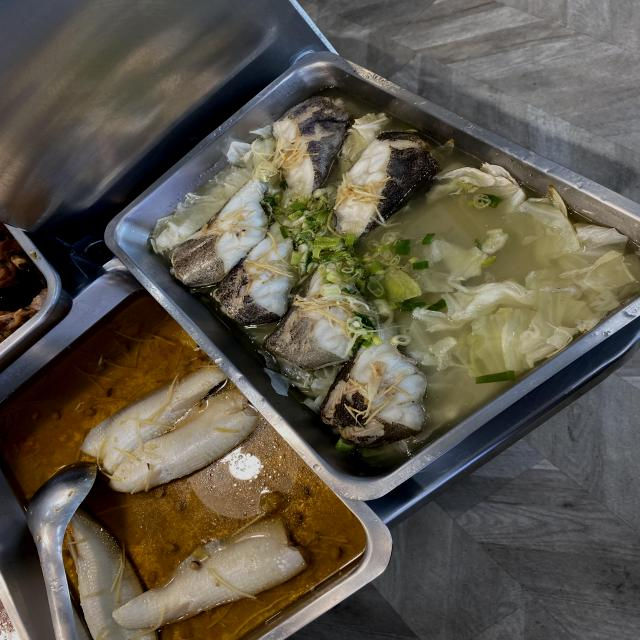Steamed fish: (219, 170, 443, 305)
